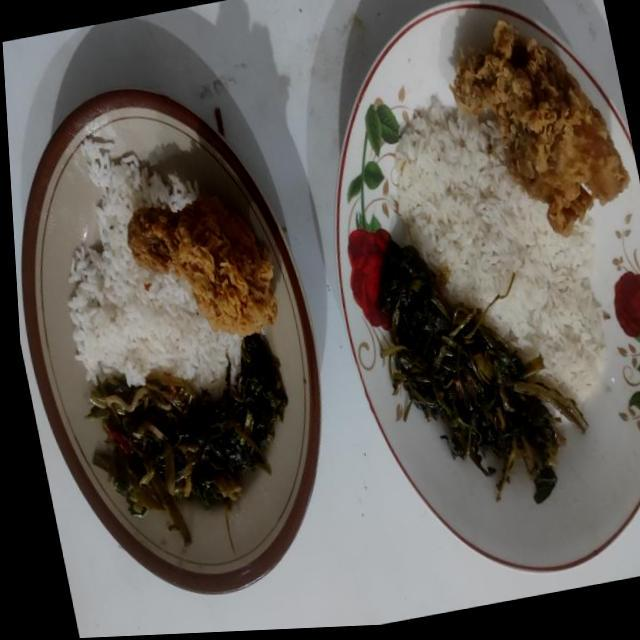nasi_putih: (396, 100, 606, 402), (68, 138, 242, 389)
tumis_kangkung: (378, 239, 587, 503), (86, 333, 288, 544)
